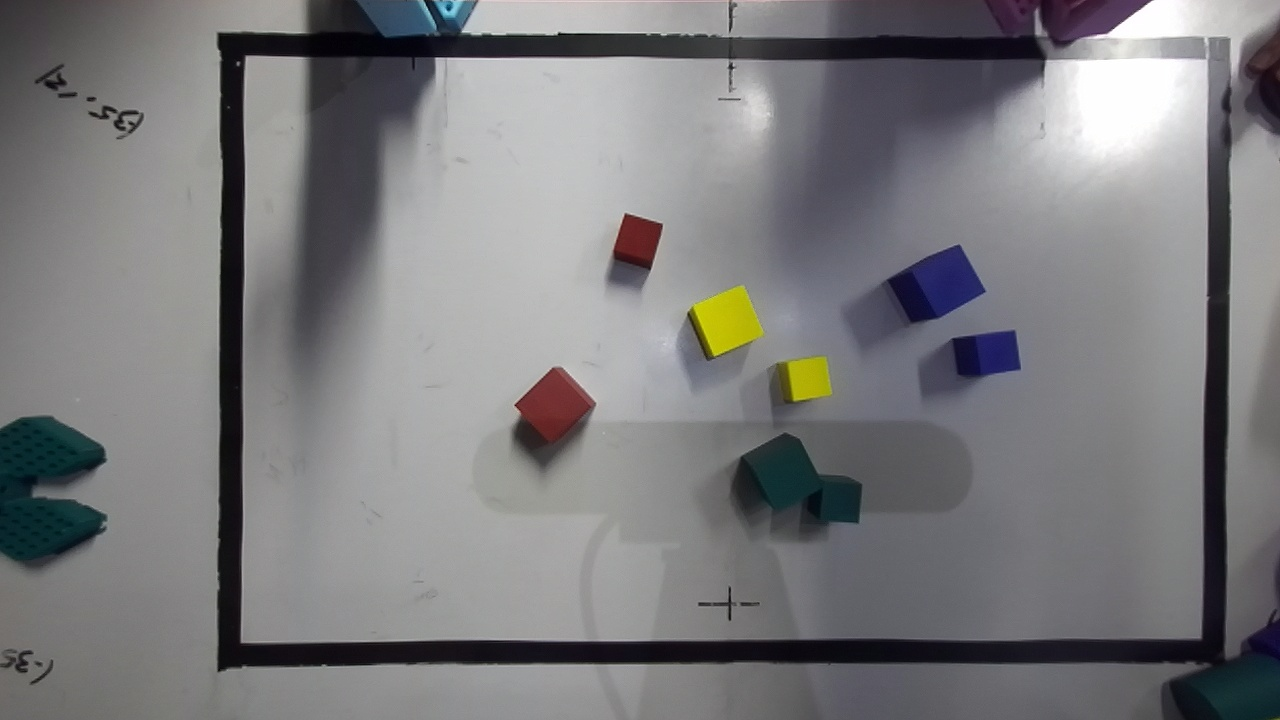cube: (887, 245, 985, 321), (515, 366, 595, 442), (741, 433, 820, 509), (688, 286, 763, 358), (953, 330, 1020, 375), (613, 213, 662, 268), (807, 475, 862, 522), (776, 356, 831, 402)
